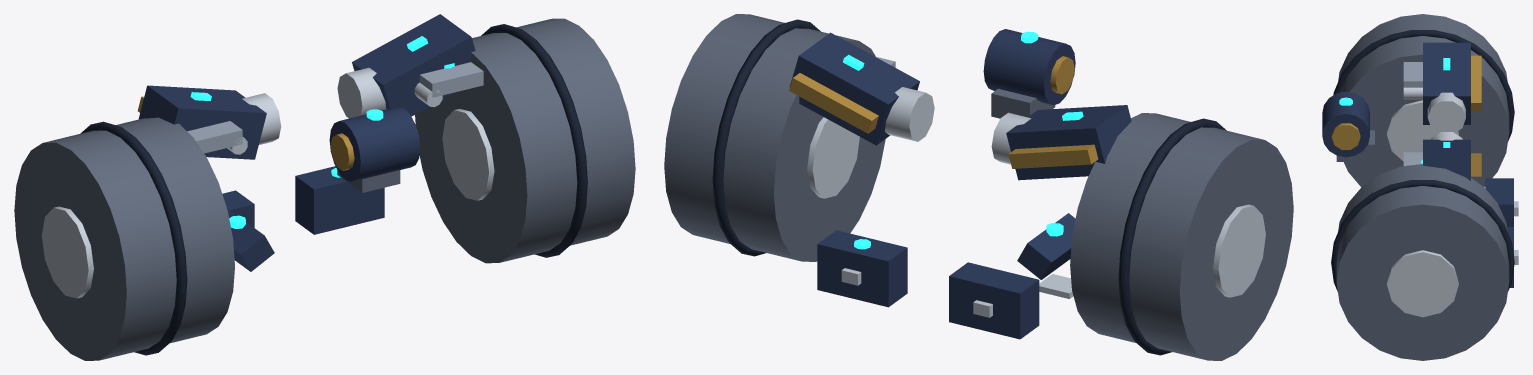
Rendered from tower_skywatch_rate_s7.glb.
The picture shows the model from 3 angles, left to right: view 1: azimuth 30°, elevation 25°; view 2: azimuth 150°, elevation 25°; view 3: azimuth 270°, elevation 25°; orthographic projection. The views are drawn at different scales.
Visible parts, largest first — view 1: skywatch_big_drum_r, skywatch_big_drum_l, skywatch_feed_cover_l, skywatch_feed_cover_r, skywatch_feed_motor, skywatch_belt_box-0.24, skywatch_big_drum_cap_l, skywatch_big_drum_cap_r, skywatch_big_drum_rib_r, skywatch_big_drum_rib_l, skywatch_feed_sprocket_l, skywatch_belt_guide_l (+6 smaller); view 2: skywatch_big_drum_r, skywatch_big_drum_l, skywatch_feed_cover_l, skywatch_belt_box0.24, skywatch_feed_cover_r, skywatch_belt_box-0.24, skywatch_feed_motor, skywatch_big_drum_cap_r, skywatch_big_drum_rib_l, skywatch_big_drum_rib_r, skywatch_big_drum_cap_l, skywatch_feed_sprocket_l (+7 smaller); view 3: skywatch_big_drum_l, skywatch_big_drum_r, skywatch_big_drum_cap_l, skywatch_feed_cover_r, skywatch_big_drum_rib_l, skywatch_feed_motor, skywatch_big_drum_cap_r, skywatch_big_drum_rib_r, skywatch_feed_cover_l, skywatch_feed_sprocket_r, skywatch_belt_box0.24, skywatch_feed_motor_cap (+7 smaller).
Boxes of the visible parts, x1,y1,x2,y2 form: skywatch_big_drum_r: (14,117,234,360); skywatch_big_drum_l: (415,18,635,263); skywatch_feed_cover_l: (352,14,475,116); skywatch_feed_cover_r: (138,85,266,159); skywatch_feed_motor: (329,106,420,181); skywatch_belt_box-0.24: (295,166,384,234); skywatch_big_drum_cap_l: (442,109,494,200); skywatch_big_drum_cap_r: (42,206,93,298); skywatch_big_drum_rib_r: (80,121,187,355); skywatch_big_drum_rib_l: (481,24,587,257); skywatch_feed_sprocket_l: (337,67,386,118); skywatch_belt_guide_l: (419,62,483,97); skywatch_big_drum_r: (1070,113,1293,360); skywatch_big_drum_l: (664,14,885,261); skywatch_feed_cover_l: (789,32,919,145); skywatch_belt_box0.24: (949,262,1039,339); skywatch_feed_cover_r: (1006,105,1131,180); skywatch_belt_box-0.24: (817,230,907,307); skywatch_feed_motor: (983,29,1075,105); skywatch_big_drum_cap_r: (1213,204,1265,297); skywatch_big_drum_rib_l: (712,19,820,256); skywatch_big_drum_rib_r: (1118,118,1226,355); skywatch_big_drum_cap_l: (807,117,859,198); skywatch_feed_sprocket_l: (885,87,934,141); skywatch_big_drum_l: (1336,164,1509,360); skywatch_big_drum_r: (1338,14,1509,187); skywatch_big_drum_cap_l: (1387,250,1458,317); skywatch_feed_cover_r: (1423,42,1470,124); skywatch_big_drum_rib_l: (1331,180,1514,291); skywatch_feed_motor: (1322,91,1369,157); skywatch_big_drum_cap_r: (1387,100,1458,161); skywatch_big_drum_rib_r: (1333,30,1514,141); skywatch_feed_cover_l: (1423,139,1470,180); skywatch_feed_sprocket_r: (1427,92,1465,132); skywatch_belt_box0.24: (1485,178,1513,226); skywatch_feed_motor_cap: (1331,123,1360,149).
Size of the model in its own units: 1.92 by 0.794 by 0.82.
